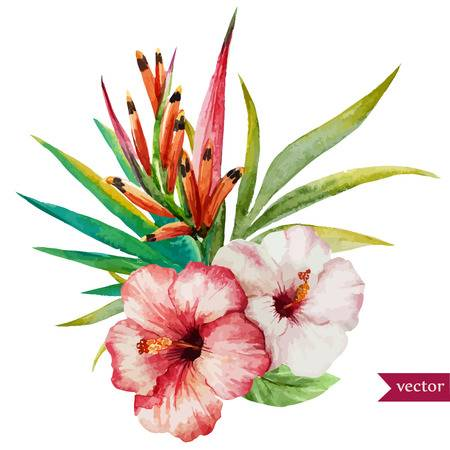Hibiscus: (106, 211, 380, 450)
